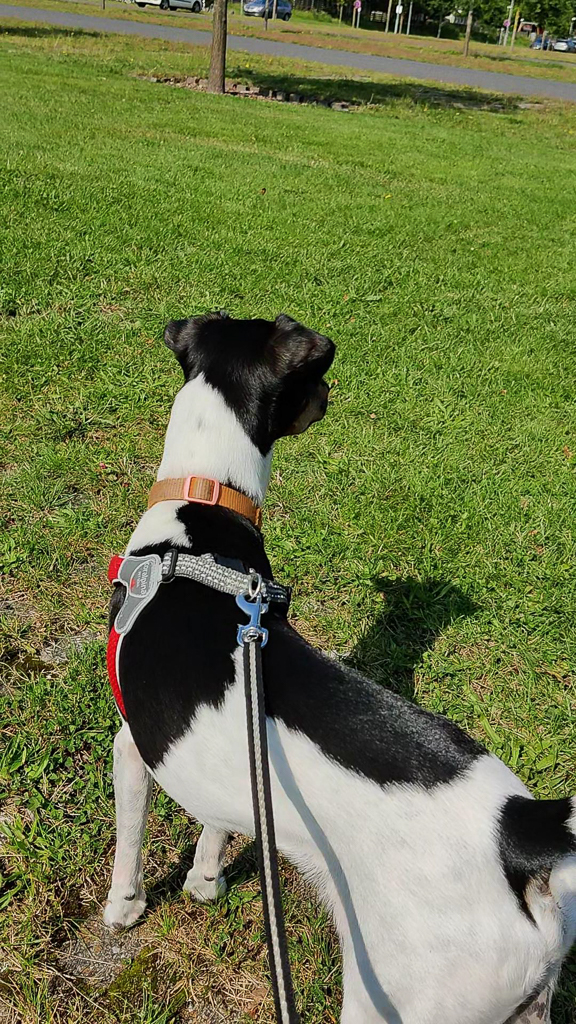Dog: (88, 277, 576, 1024)
